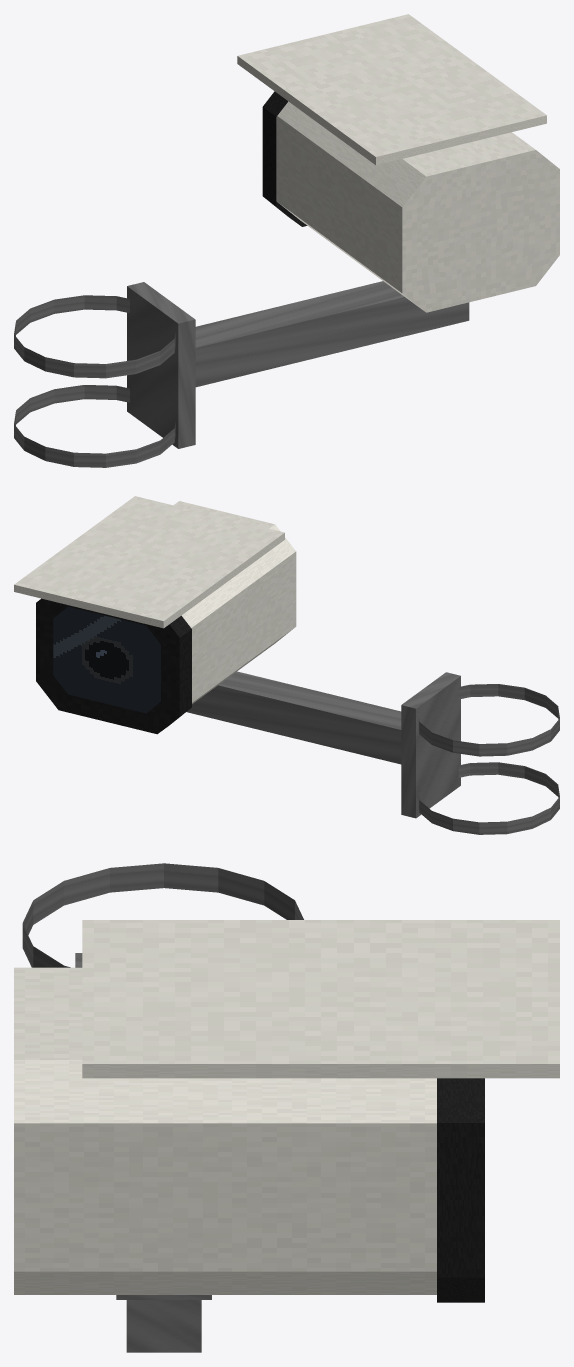
The model's file is red_light_camera_side_left_pedestal.obj.
3 renders of one model, top to bottom at view 1: azimuth 30°, elevation 25°; view 2: azimuth 150°, elevation 25°; view 3: azimuth 270°, elevation 25°, orthographic. The views are drawn at different scales.
Parts seen in each view (by area): view 1: red_light_camera_side_left_pedestal; view 2: red_light_camera_side_left_pedestal; view 3: red_light_camera_side_left_pedestal.
Part boxes in pixels (x1=…): red_light_camera_side_left_pedestal: x1=14, y1=14, x2=559, y2=467; red_light_camera_side_left_pedestal: x1=14, y1=496, x2=559, y2=834; red_light_camera_side_left_pedestal: x1=14, y1=863, x2=559, y2=1352.
Size of the model in its own units: 1.46 by 0.675 by 0.8.
